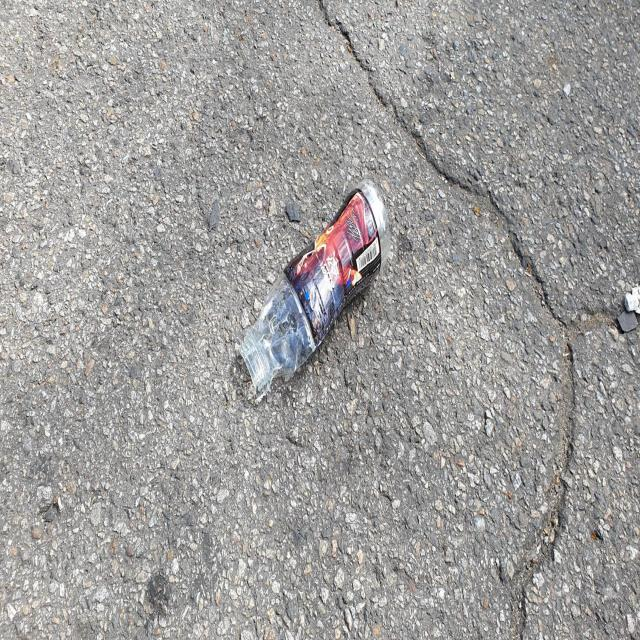plastic: (240, 178, 391, 398)
